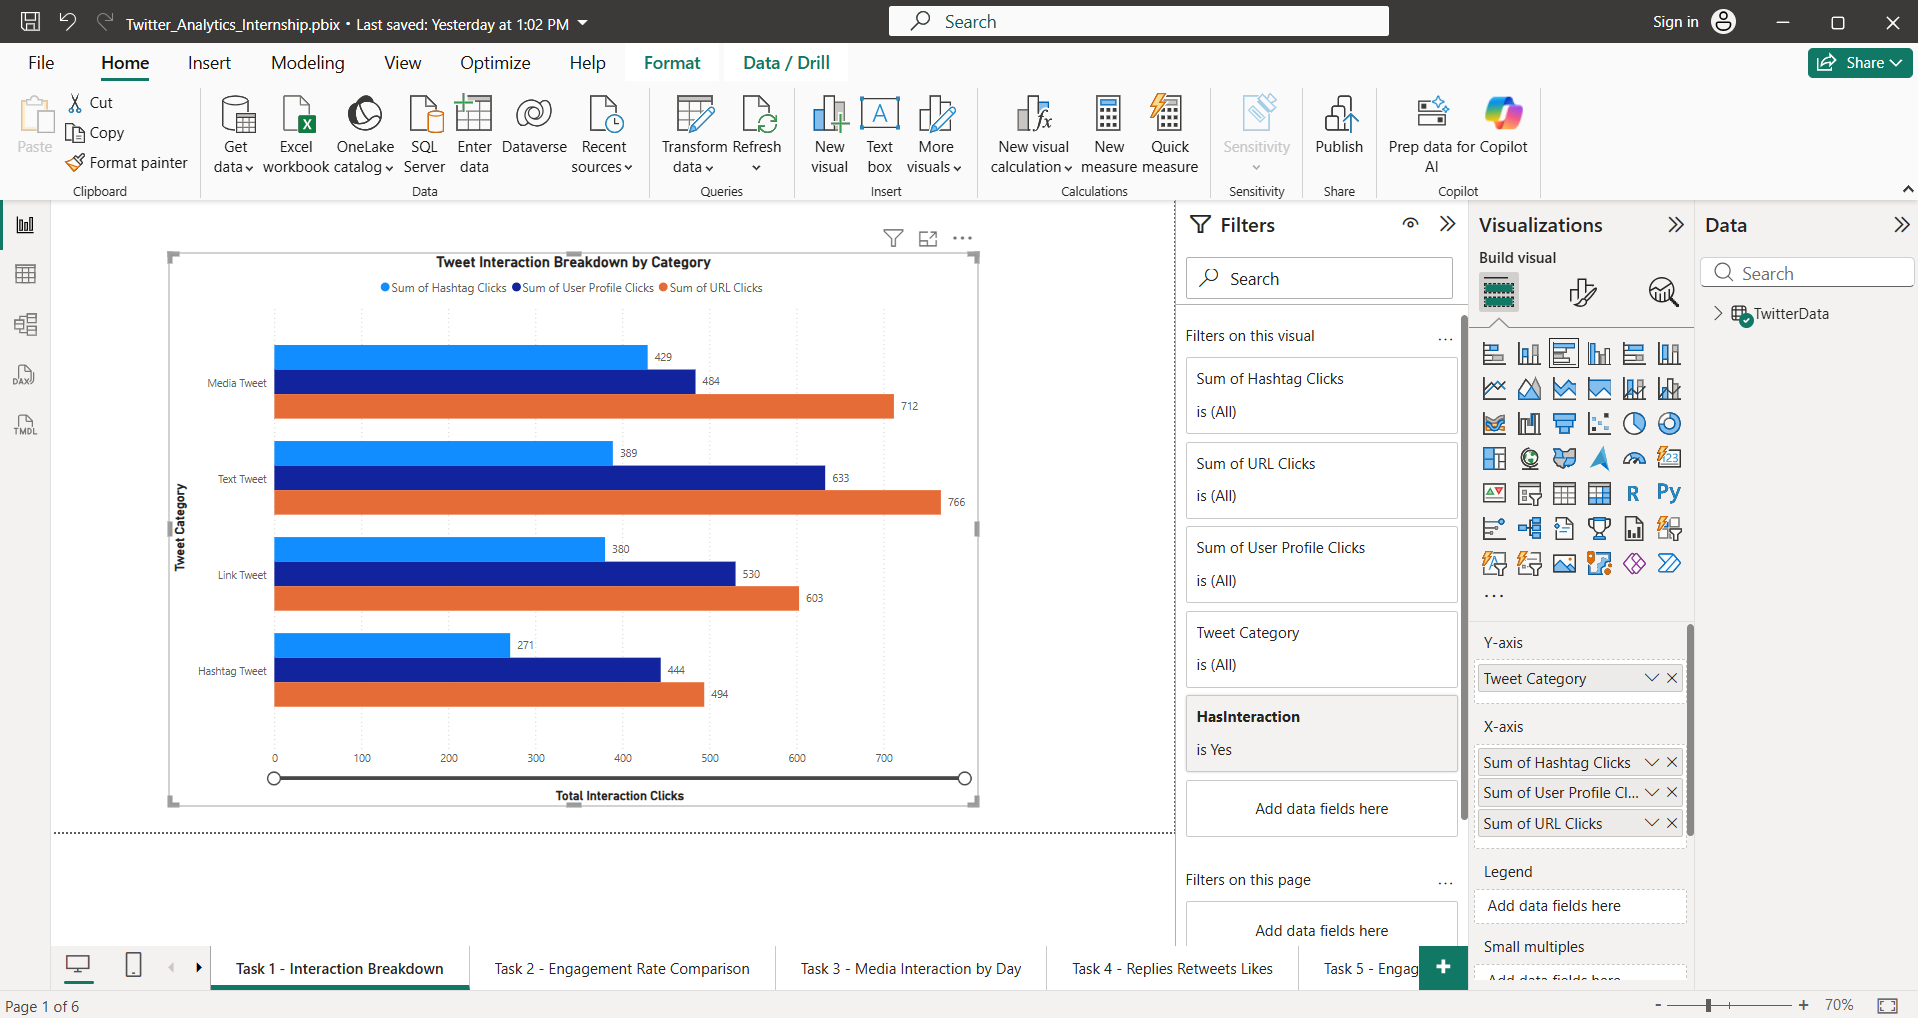

What the dashboard file says about the page in this screenshot:
{"tool":"powerbi","page":{"name":"Task 1 - Interaction Breakdown","canvas":[1280,720],"ordinal":0},"visuals":[{"type":"clusteredBarChart","title":"Tweet Interaction Breakdown by Category","fields":{"Category":["TwitterData.Tweet Category"],"Y":["Sum(TwitterData.Hashtag Clicks)","Sum(TwitterData.User Profile Clicks)","Sum(TwitterData.URL Clicks)"]},"box":[40,28.9,923.3,630],"z":0}]}

Visuals, with their boxes on the page's 1280x720 design canvas (x1, y1, x2, y2). These are canvas units, not pixel positions in the 1918x1018 screenshot, which may show the page scaled, cropped or inside an application window:
"Tweet Interaction Breakdown by Category" clusteredBarChart: x1=40 y1=29 x2=963 y2=659
